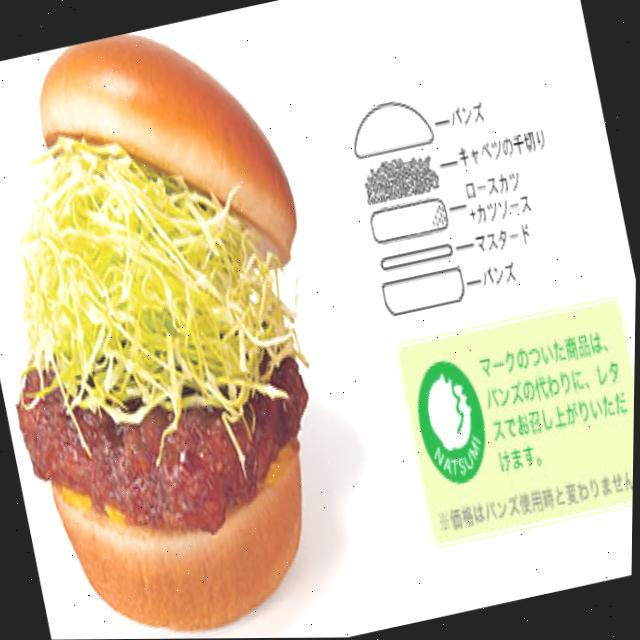汉堡快餐: (0, 4, 390, 640)
